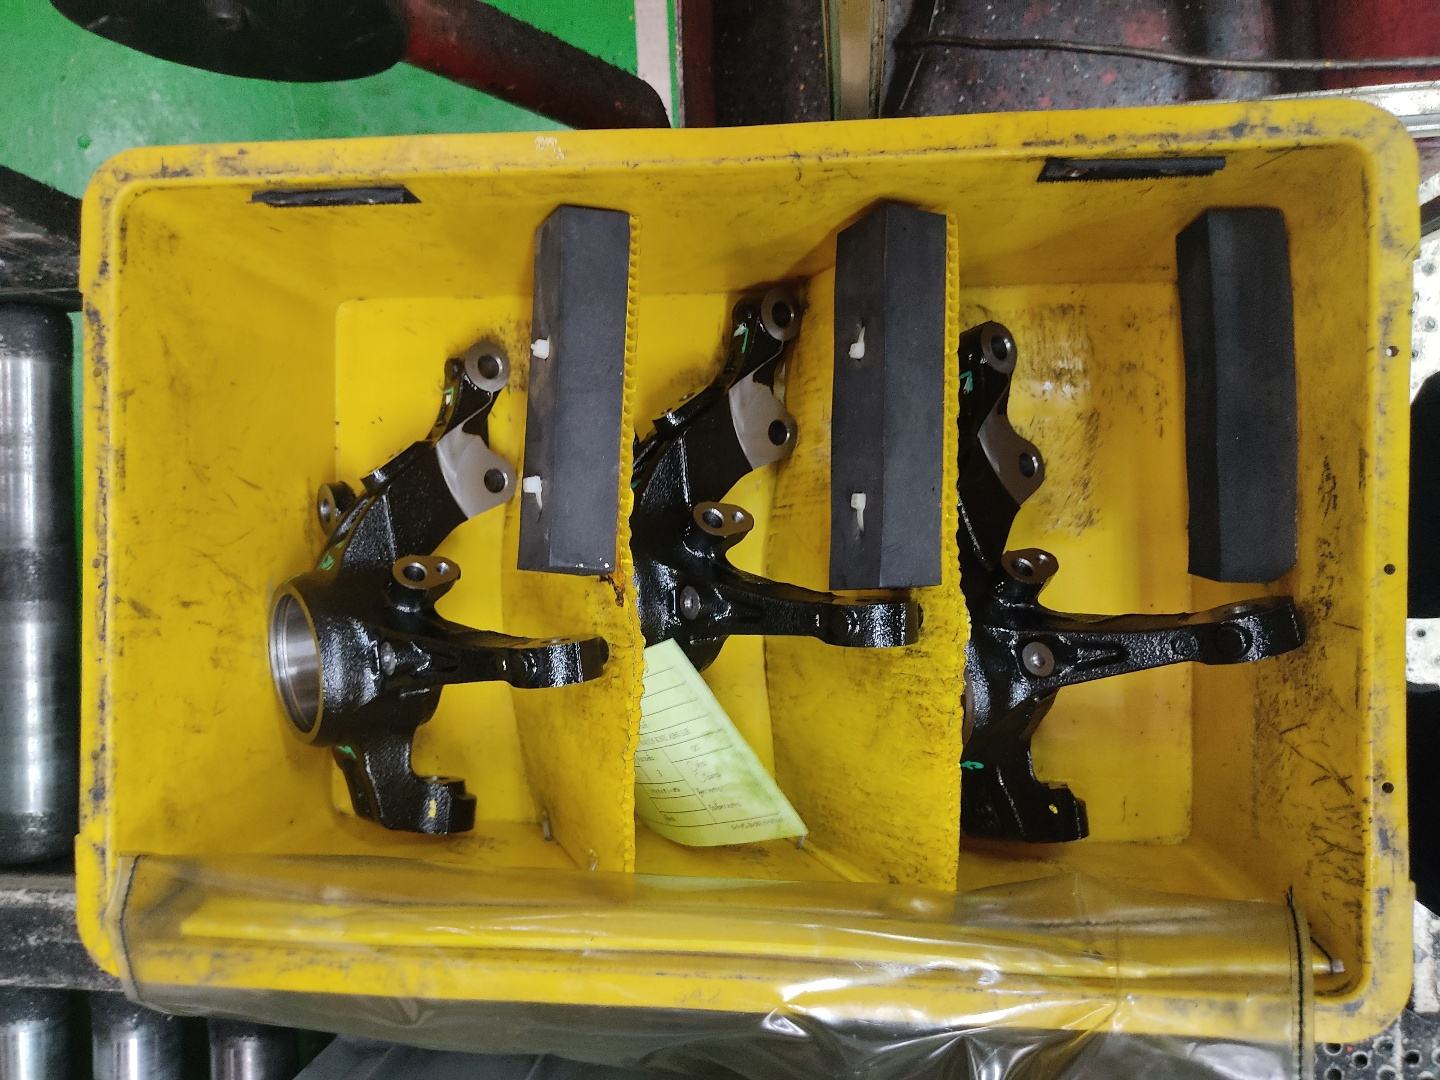abs-lh: (946, 314, 1308, 859), (259, 336, 617, 852), (625, 277, 927, 784)
